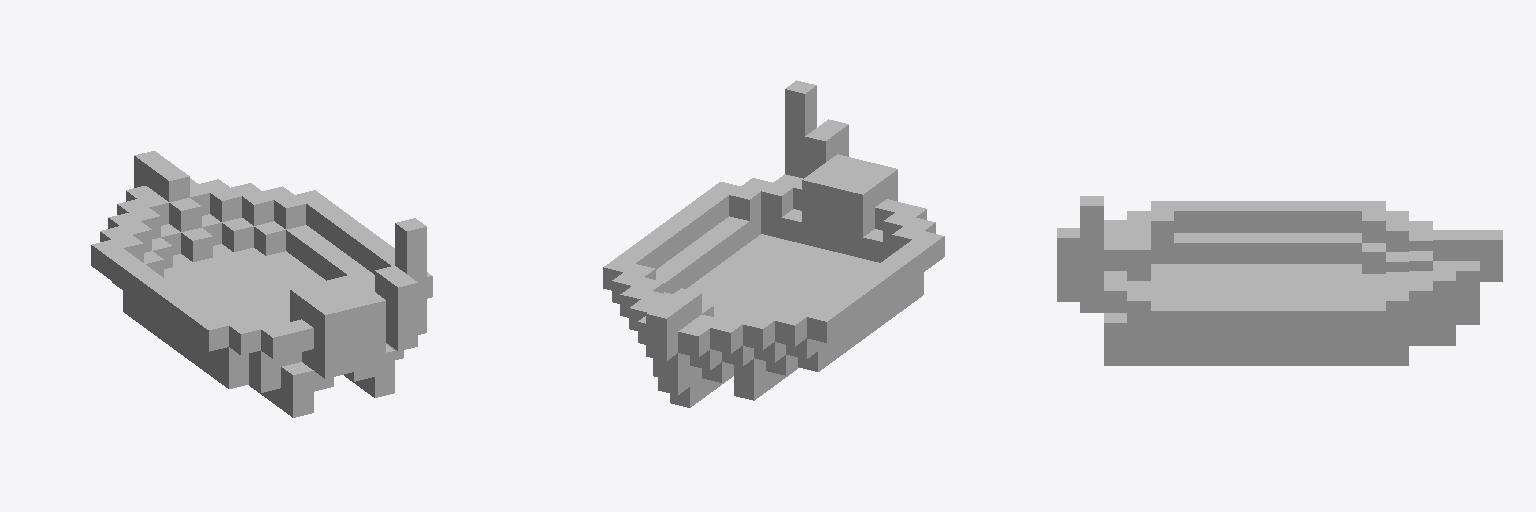
Rendered from Boat.obj.
3 renders of one model, left to right at view 1: azimuth 30°, elevation 25°; view 2: azimuth 150°, elevation 25°; view 3: azimuth 270°, elevation 25°, orthographic.
Parts seen in each view (by area): view 1: object 1; view 2: object 1; view 3: object 1.
Part boxes in pixels (x1,y1,x2,y2): object 1: (91, 151, 432, 417); object 1: (603, 80, 944, 407); object 1: (1057, 196, 1502, 365).
Size of the model in its own units: 1.1 by 0.8 by 1.9.